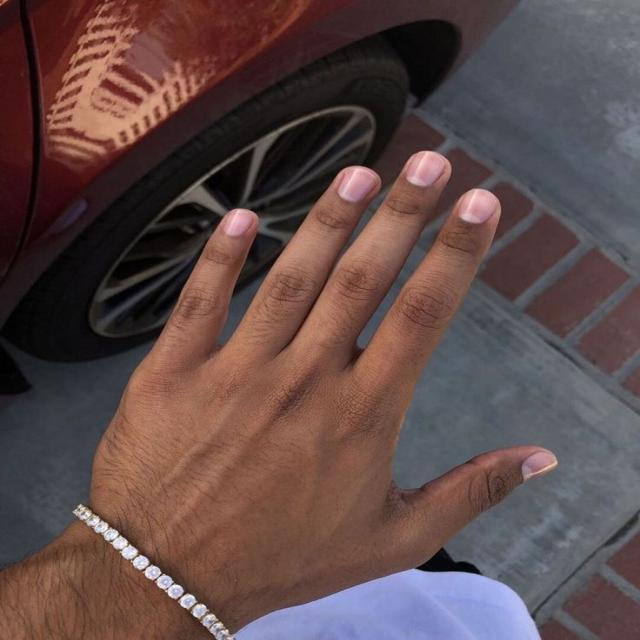Fingernail: (337, 169, 379, 203), (458, 188, 496, 224), (406, 151, 445, 186), (522, 450, 558, 482), (223, 210, 253, 236)
